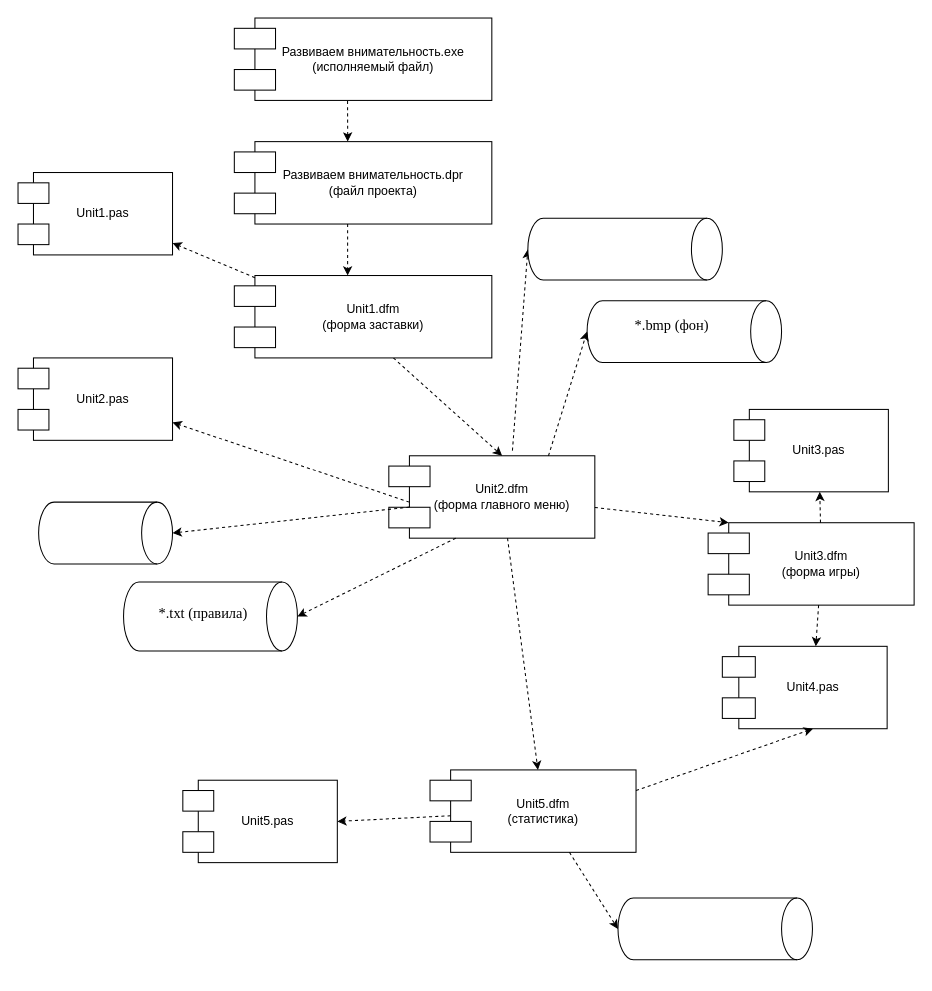
This 932x991 diagram has some shape labels left out. Each missing label, with the centre of its shape:
*.mp3 (музыка): (624,248)
*.txt (результат прохождения уровня): (714,928)
Справка.chm (Справка): (105,532)
